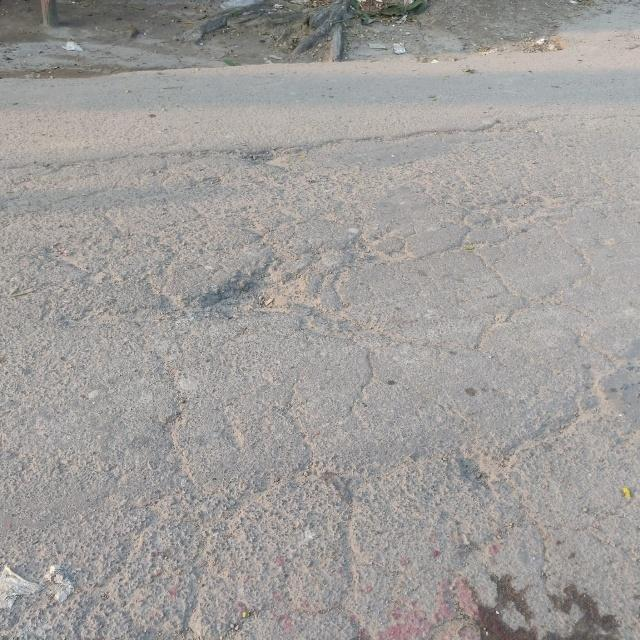Surface Erosion: (0, 42, 640, 494)
